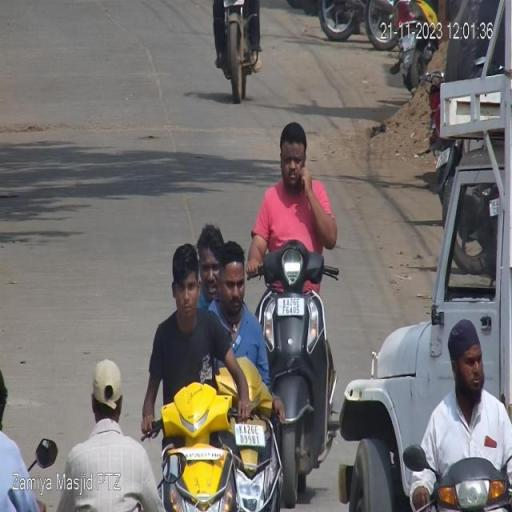using mobile: (301, 146, 311, 202)
